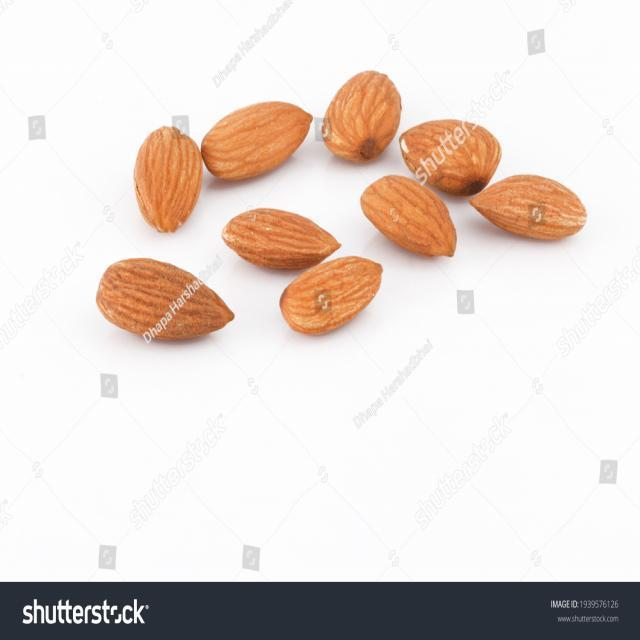almond: (93, 257, 235, 343), (203, 102, 312, 180), (360, 172, 458, 258), (467, 173, 588, 242), (130, 125, 203, 238), (279, 255, 384, 333), (398, 120, 502, 198), (323, 68, 402, 160), (220, 210, 340, 270)
